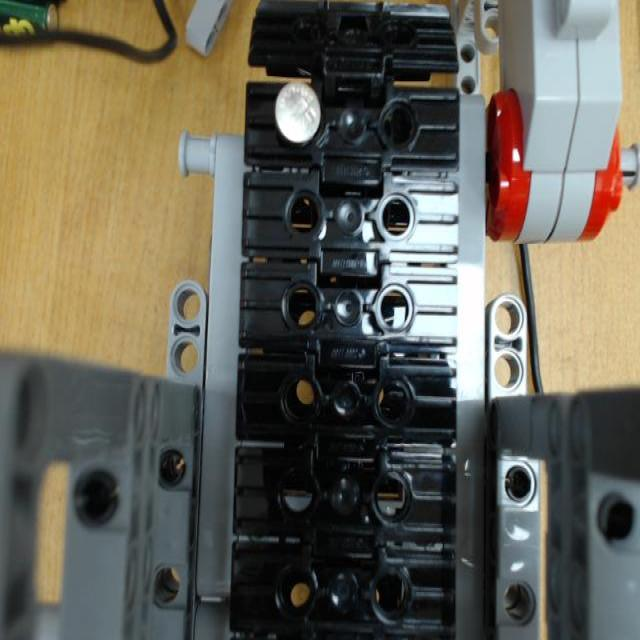COIN: (268, 81, 322, 147)
